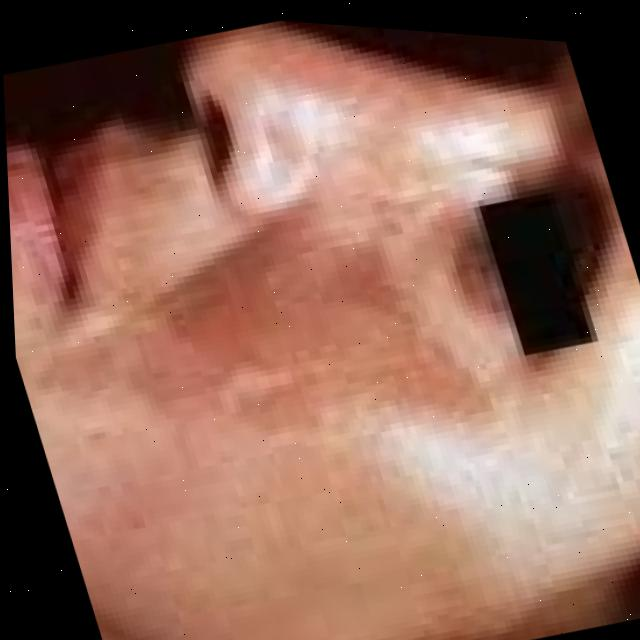Melasma: (189, 201, 500, 461)
